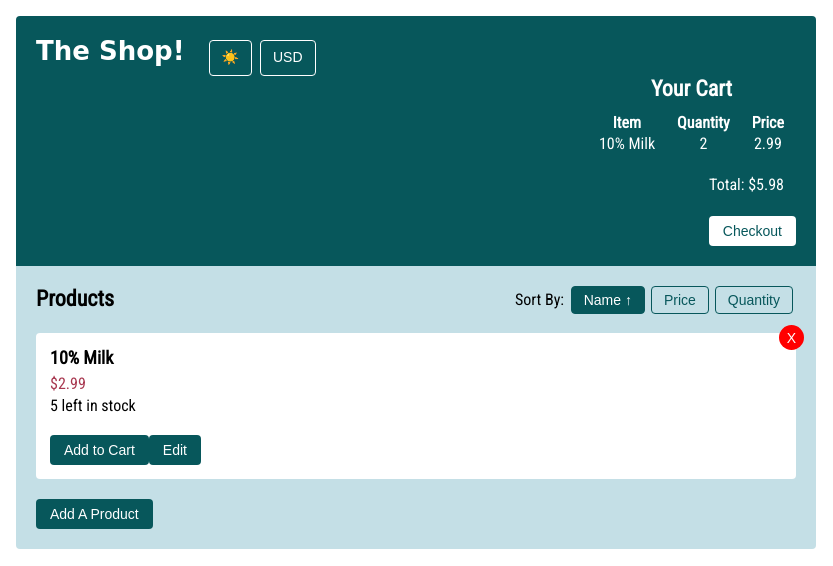
Test: clears the cart on checkout
The width and height of the screenshot is (833, 566).
Click the button "Checkout". click: (752, 231)
box: 709,216 -> 796,246
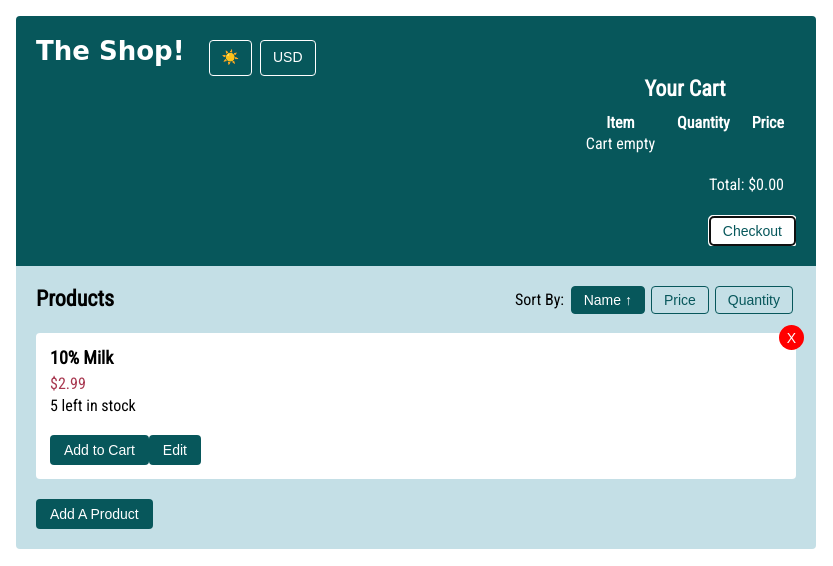
Check: the cell "Cart empty" is shown, box 576,134 -> 665,153
